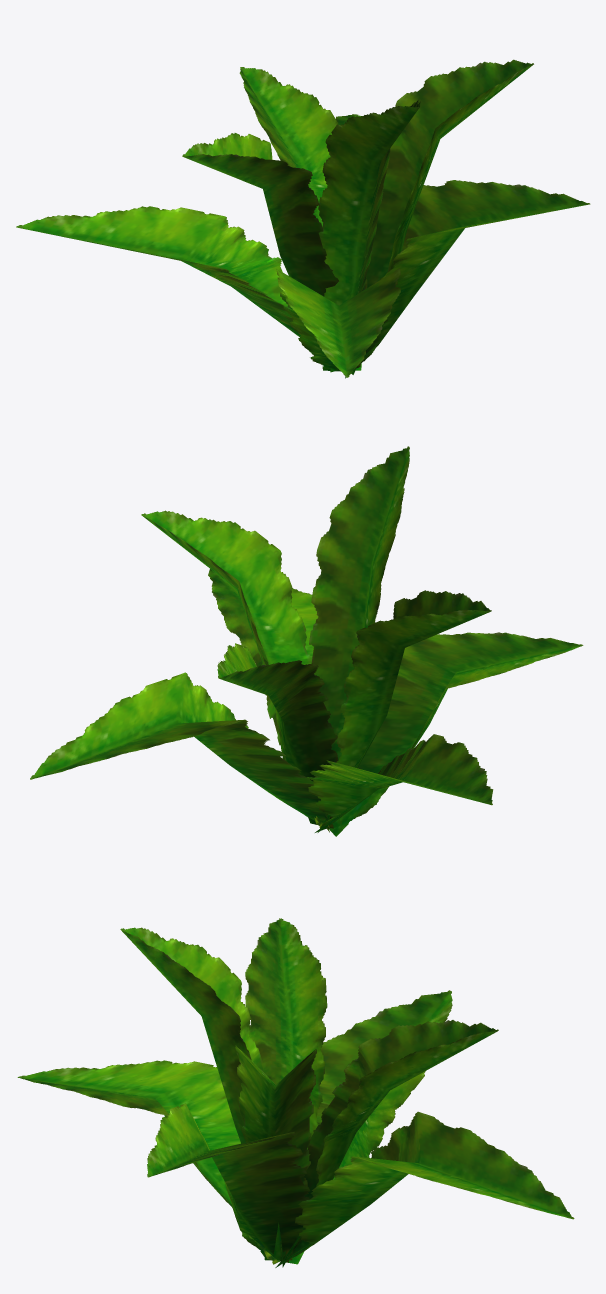
File: LVL_RIV_TALLPLANT.fbx
The picture shows the model from 3 angles, top to bottom: view 1: azimuth 30°, elevation 25°; view 2: azimuth 150°, elevation 25°; view 3: azimuth 270°, elevation 25°; orthographic projection. The views are drawn at different scales.
Parts seen in each view (by area): view 1: LVL_RIV_TALLPLANT; view 2: LVL_RIV_TALLPLANT; view 3: LVL_RIV_TALLPLANT.
Part boxes in pixels (x1,y1,x2,y2): LVL_RIV_TALLPLANT: (16, 59, 590, 378); LVL_RIV_TALLPLANT: (30, 446, 583, 836); LVL_RIV_TALLPLANT: (17, 918, 574, 1267).
Bounding box in the file's own units: 18041 × 13705 × 19660.
1 material, 1 textured.
